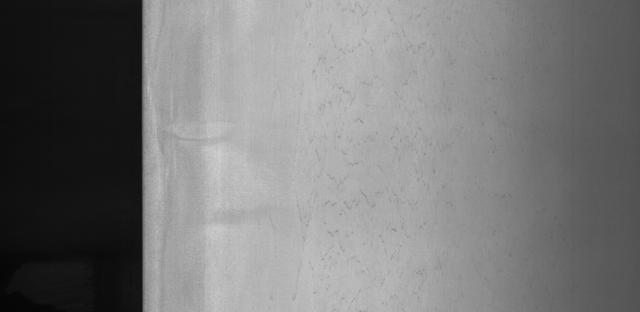silk_spot: (290, 14, 466, 295)
